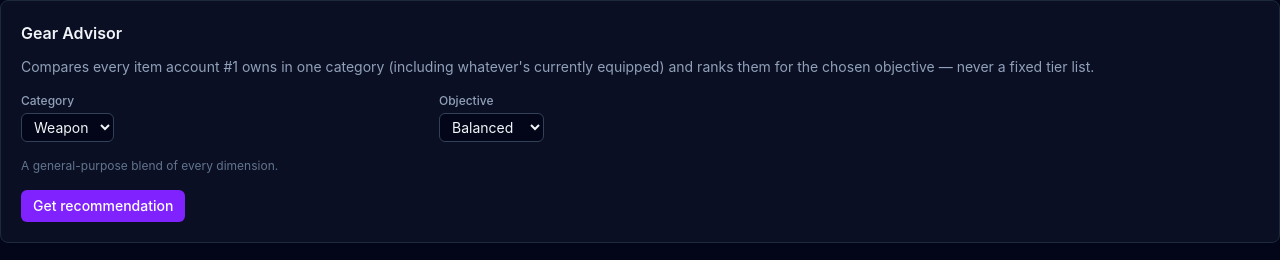
it: GearAdvisorPage › includes an armor_slot only when the armor category is selected
Later steps or results of the test are not shown.
Select "Armor" in the dropdown labelled "Category": (68, 128) [21,113,114,142]
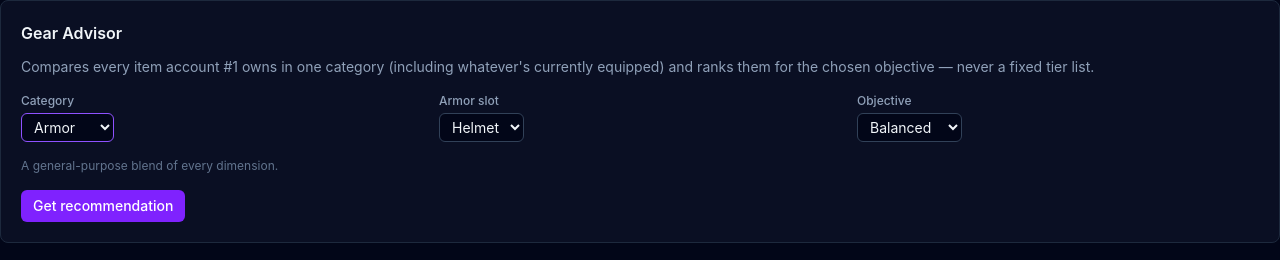
Expected: the dropdown labelled "Armor slot" is shown, [439,113,524,142]
